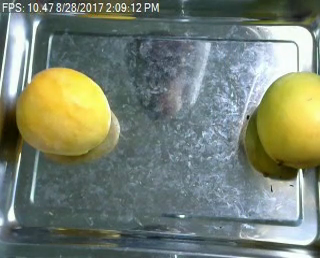Mango: (16, 67, 112, 153), (255, 70, 320, 167)
